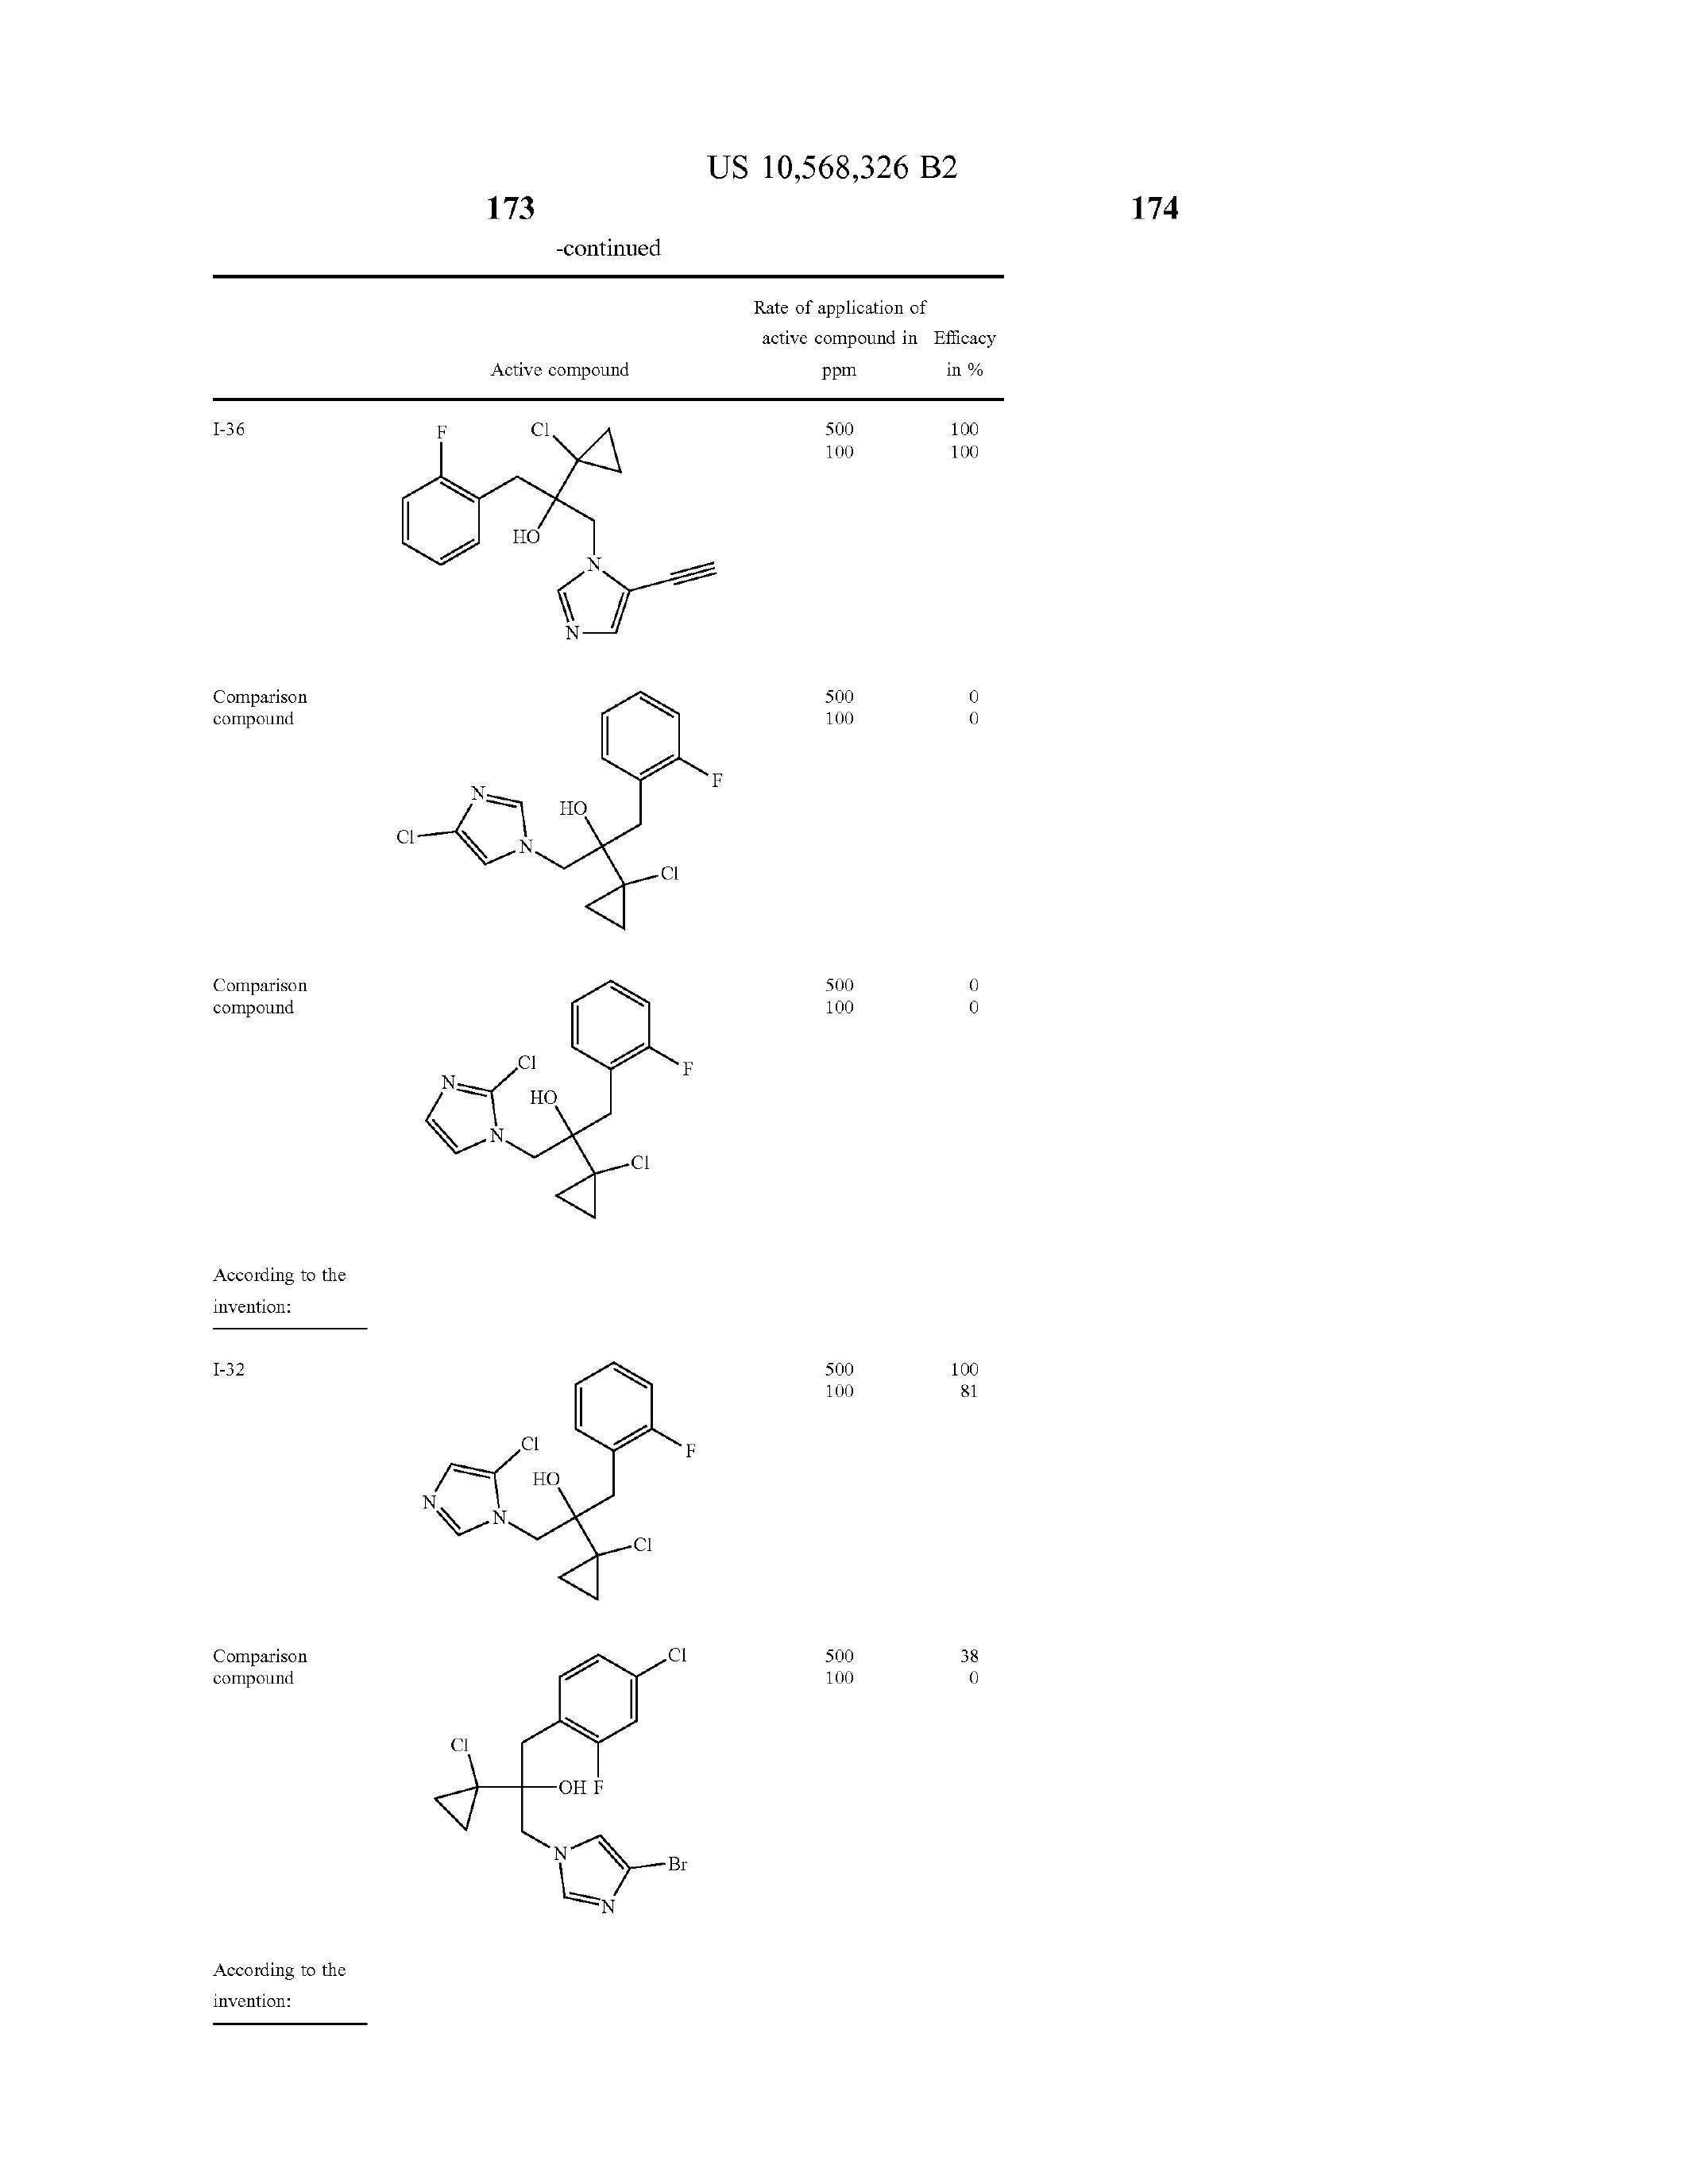relevant-structures: (378, 1613, 757, 1954), (399, 968, 777, 1275), (346, 408, 755, 659), (358, 693, 787, 927), (415, 1358, 750, 1604)
